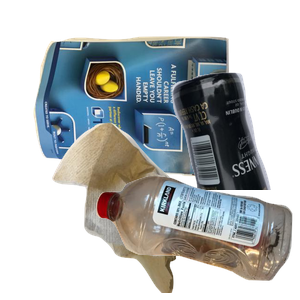glass: (106, 70, 300, 250)
paper: (31, 34, 252, 205)
plastic: (93, 173, 300, 300)
trash: (50, 120, 219, 300)
